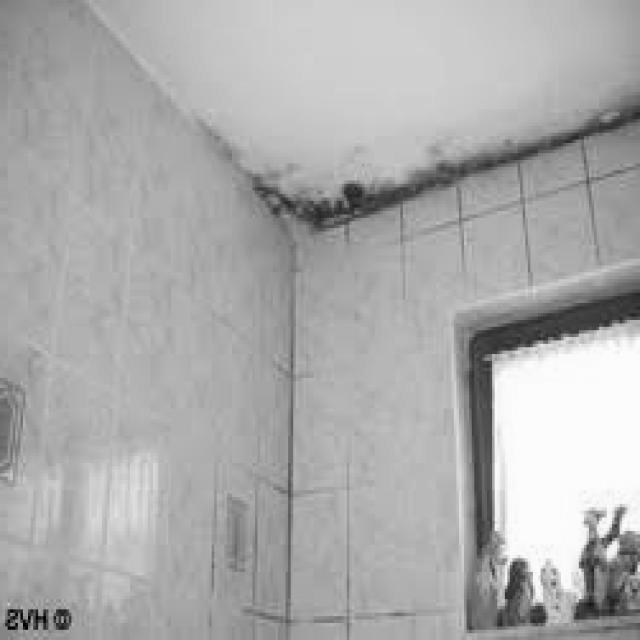stain marks: (193, 91, 640, 238)
